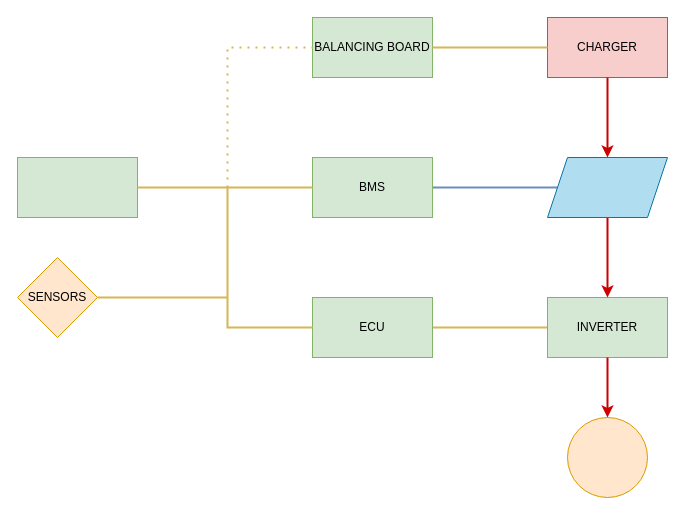
The diagram is 685 pixels wide and 515 high, and some of its shapes have lost their labels. The box of each missing label's shape, as (x1, y1, x2, y2) in pixels:
BATTERY PACK: (546, 156, 668, 218)
DASH BOARD: (16, 156, 138, 218)
MOTOR: (566, 416, 648, 498)
